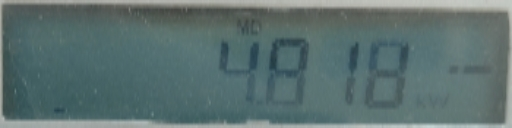1: (344, 45, 361, 107)
4: (215, 26, 257, 108)
8: (364, 31, 415, 112)
9: (269, 36, 317, 110)
d: (254, 95, 267, 106)
